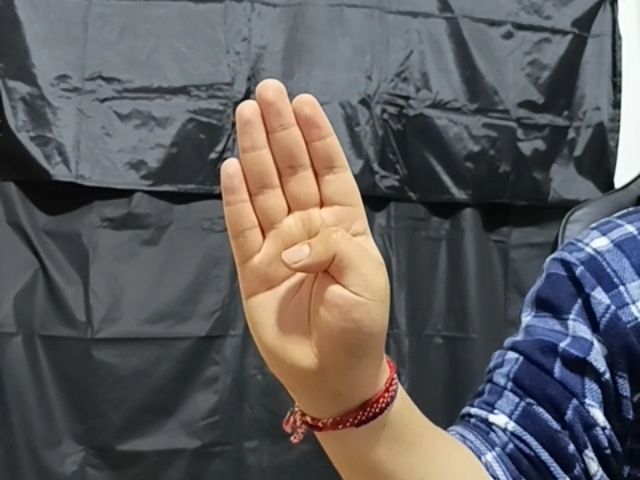B: (210, 76, 395, 368)
